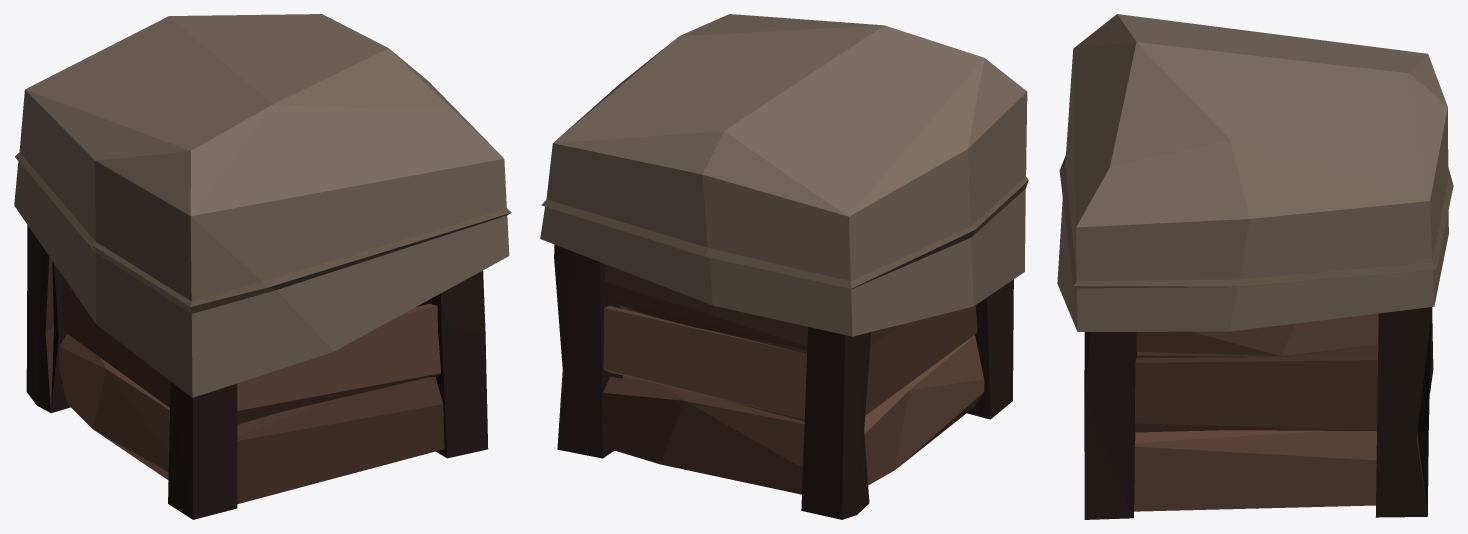
The model's file is Crate_03.glb.
3 renders of one model, left to right at view 1: azimuth 30°, elevation 25°; view 2: azimuth 150°, elevation 25°; view 3: azimuth 270°, elevation 25°, orthographic. The views are drawn at different scales.
Parts seen in each view (by area): view 1: Crate_03; view 2: Crate_03; view 3: Crate_03.
Boxes of the visible parts, x1,y1,x2,y2 form: Crate_03: (14, 14, 511, 519); Crate_03: (540, 14, 1028, 519); Crate_03: (1057, 14, 1453, 519).
Size of what is drawn, in the model's own units: 0.8886 by 0.8962 by 0.8406.
Materials: 1 (1 with a texture image).
